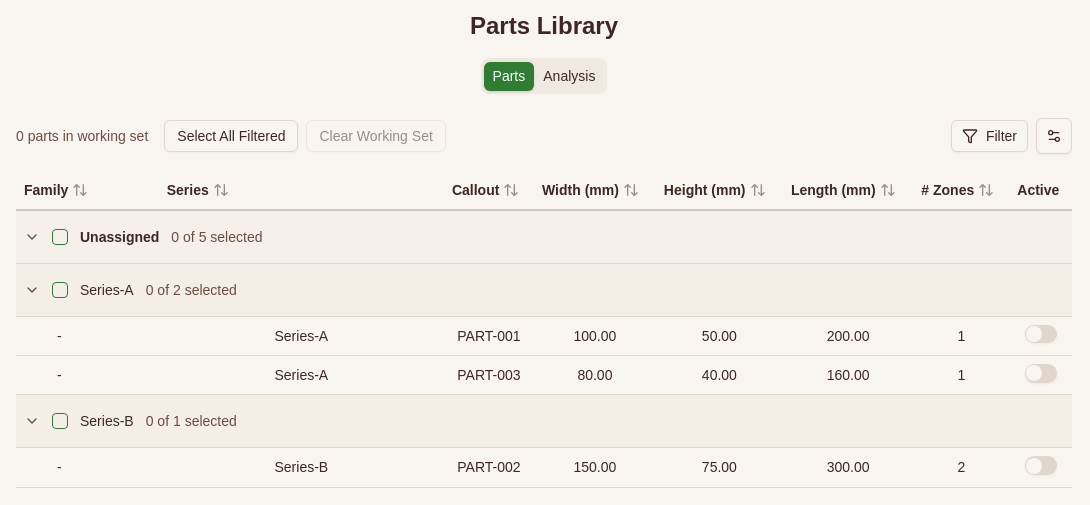
Test: Parts Library Page › AC-2.7.3: Column Configuration with Persistence › opens column config dropdown when gear icon is clicked
Expected: the text "PART-001" is shown, [444,316,534,356]
# Click the column config button
Click the button named "configure columns": (1054, 136) [1036,118,1072,154]
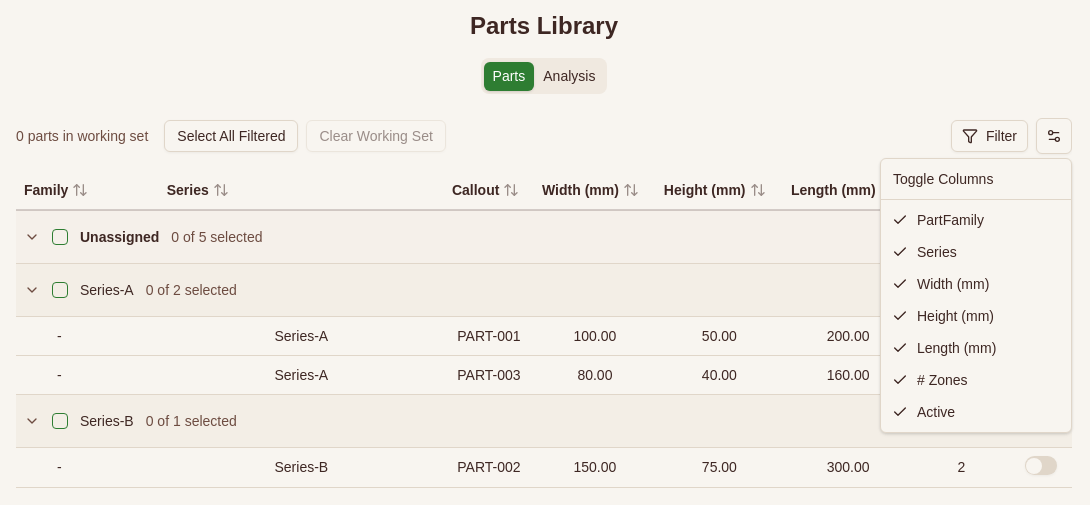
Now the text "Toggle Columns" is shown, box [893,171,993,187]
